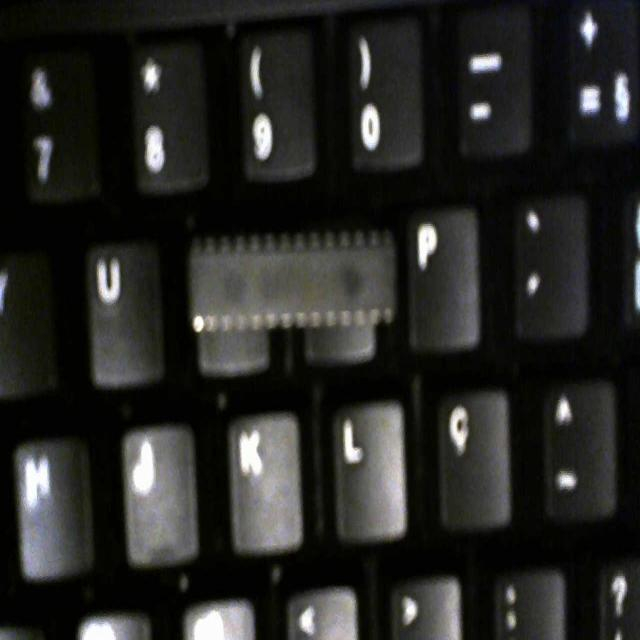atmega: (190, 241, 397, 324)
